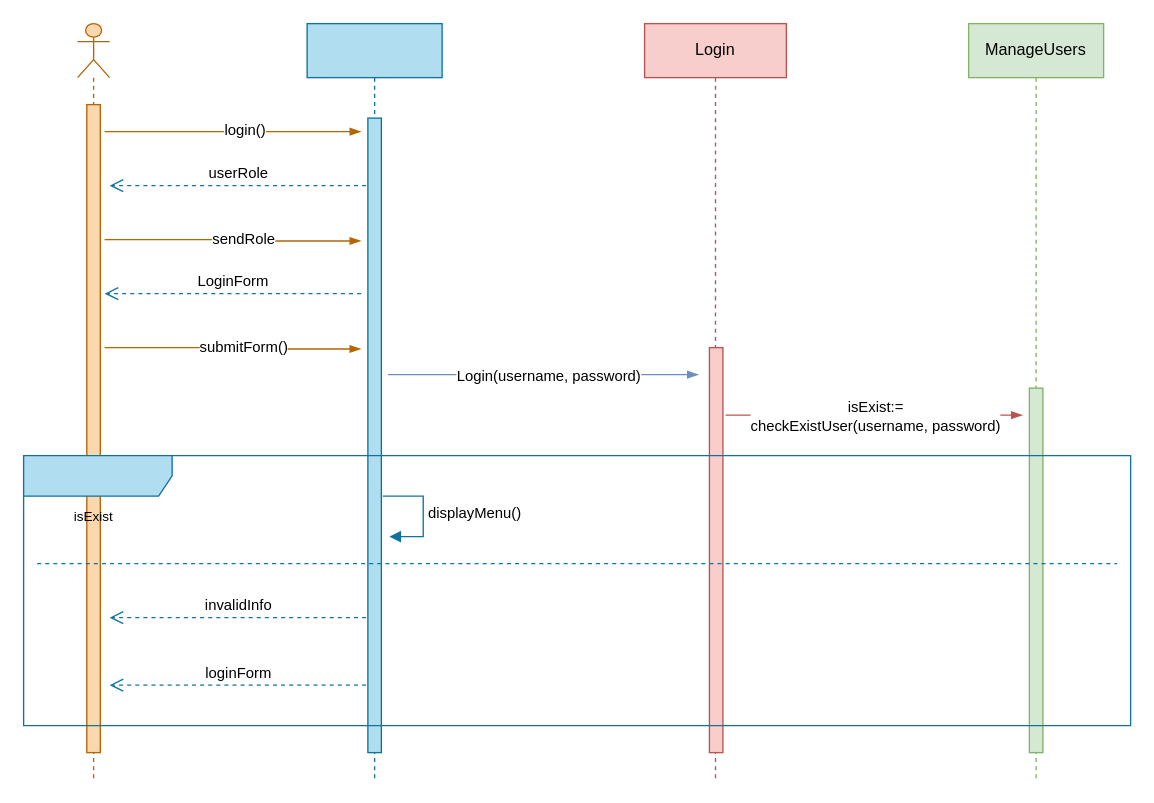
Image size: 1154x803. Some labels were removed from this diagram. Each missing label, with the box of its shape:
System: (306, 22, 442, 780)
userExist: (22, 454, 1131, 726)
